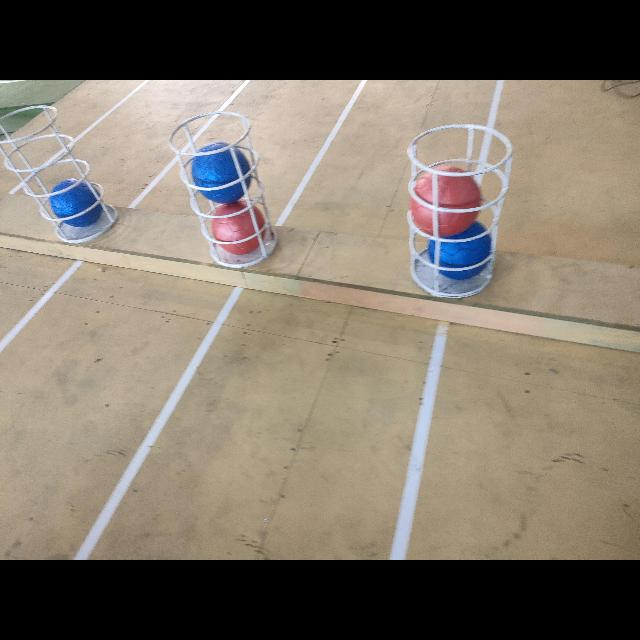B: (192, 142, 252, 202), (427, 222, 491, 278), (51, 180, 104, 228)
R: (410, 167, 482, 236), (211, 200, 267, 254)
